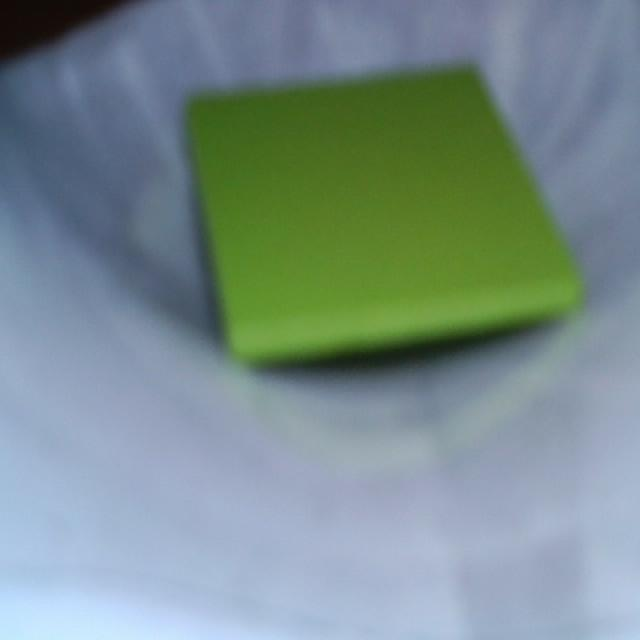square: (188, 71, 581, 361)
